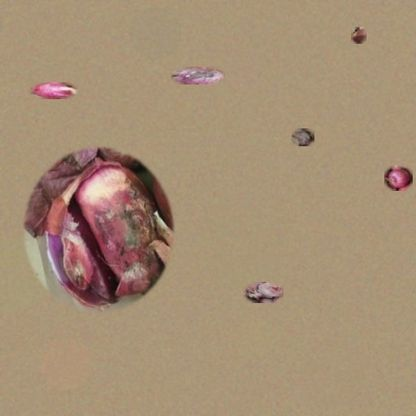damaged: (20, 142, 177, 318)
healthy: (384, 165, 413, 191)
rotten: (171, 67, 225, 85), (30, 82, 78, 99), (292, 128, 314, 146)
sprouted: (243, 282, 284, 303), (351, 27, 366, 44)
